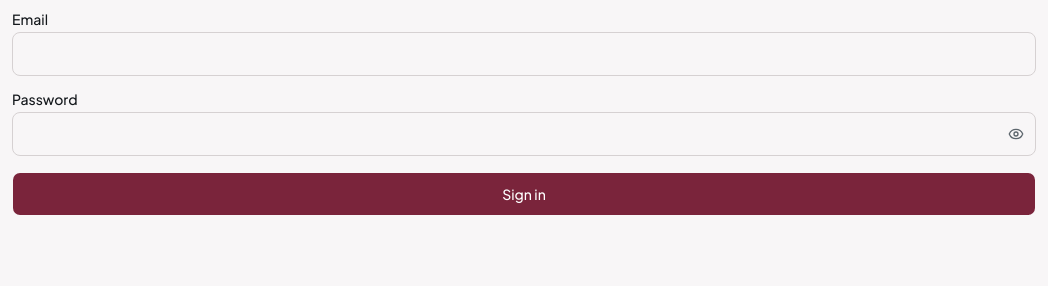
EmployeeSignInForm › shows one generic message on failure, never revealing which field was wrong
Type "nobody@sals3.com" into the field labelled "Email" at (524, 54), box [12,32,1036,76]
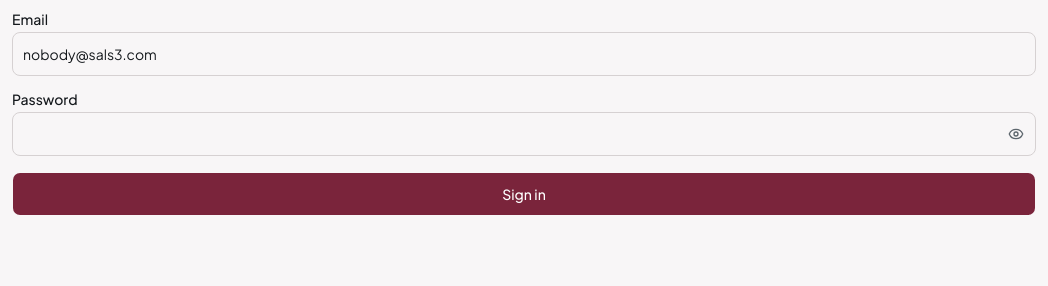
Type "whatever" into the password field labelled "Password" at (524, 134), box [12,112,1036,156]
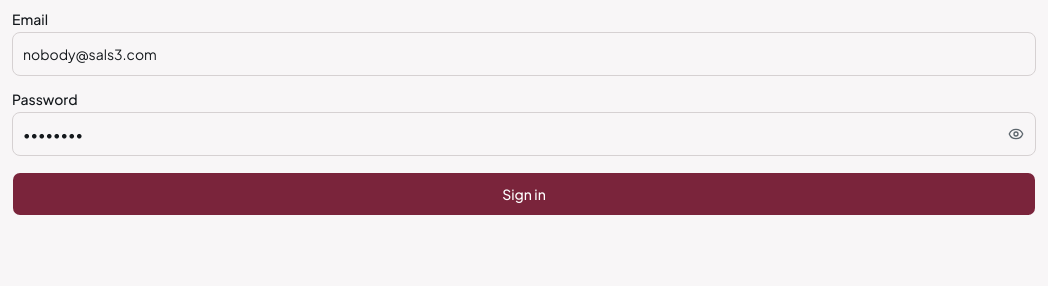
Submit the form from the button "Sign in", box [12,172,1036,216]
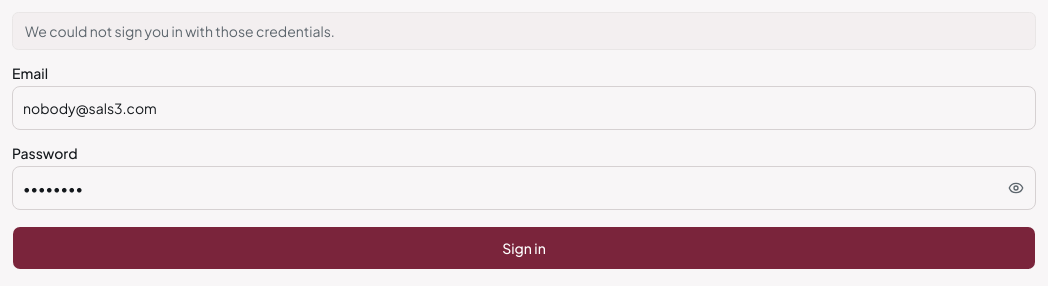
Check: the text "We could not sign you in with those credentials." is shown, box [12,12,1036,50]
